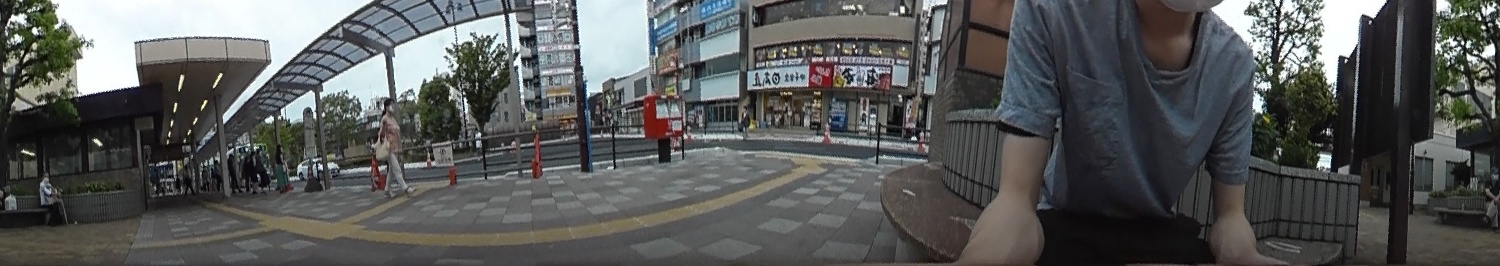difficult_person: (253, 148, 272, 190), (272, 141, 287, 191), (739, 104, 751, 139), (244, 147, 254, 189), (180, 164, 192, 195), (151, 164, 162, 196), (212, 159, 220, 195)
person: (377, 96, 411, 196), (36, 170, 69, 227), (1485, 169, 1500, 229)
